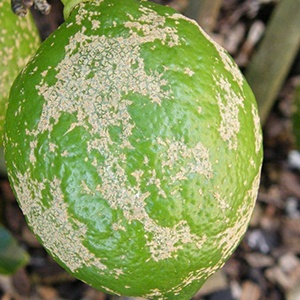damaged_lime: (9, 5, 253, 300)
